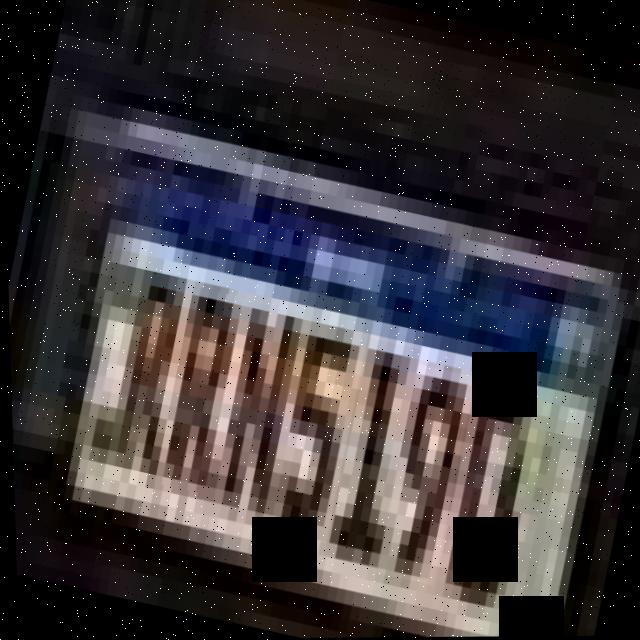0: (432, 381, 553, 613)
5: (250, 317, 370, 544)
9: (368, 365, 477, 586)
I: (316, 338, 422, 565)
N: (199, 302, 307, 516)
R: (90, 264, 199, 482), (147, 287, 256, 496)
